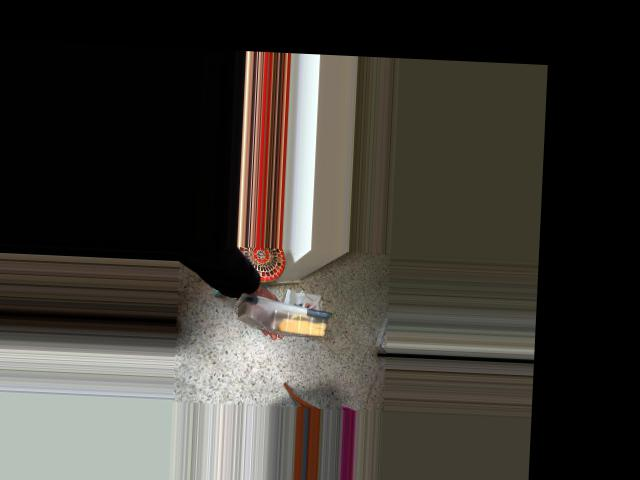cheese: (238, 293, 330, 340)
